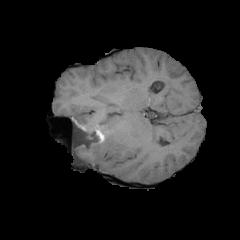glioma: (71, 103, 126, 154)
